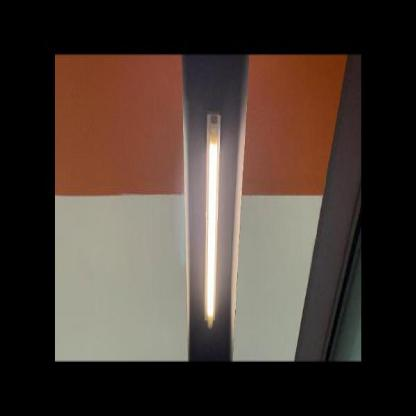light_on: (198, 110, 226, 332)
